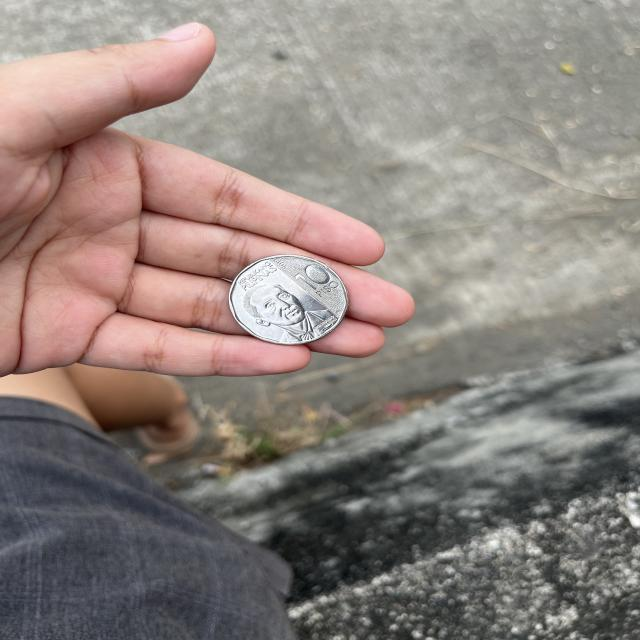10_New_Front: (290, 262, 338, 298)
